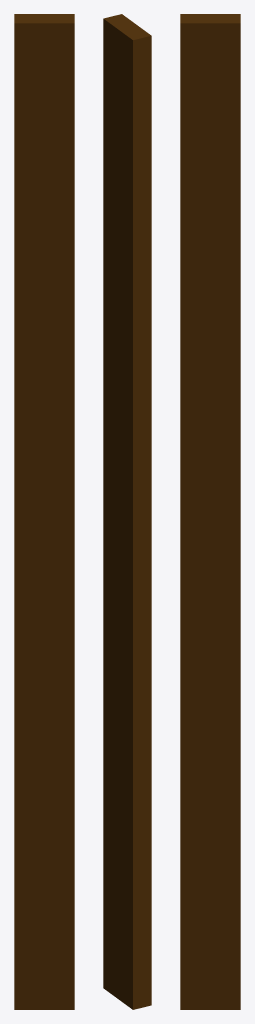
Rendered from Lange muur Detail.fbx.
The picture shows the model from 3 angles, left to right: view 1: azimuth 90°, elevation 25°; view 2: azimuth 210°, elevation 25°; view 3: azimuth 270°, elevation 25°; orthographic projection.
Visible parts, largest first — view 1: Lange muur lobby.001; view 2: Lange muur lobby.001; view 3: Lange muur lobby.001.
Part boxes in pixels (x1=…): Lange muur lobby.001: x1=14, y1=14, x2=74, y2=1009; Lange muur lobby.001: x1=103, y1=14, x2=151, y2=1009; Lange muur lobby.001: x1=180, y1=14, x2=240, y2=1009.
Size of the model in its own units: 6.18 by 308 by 17.07.
